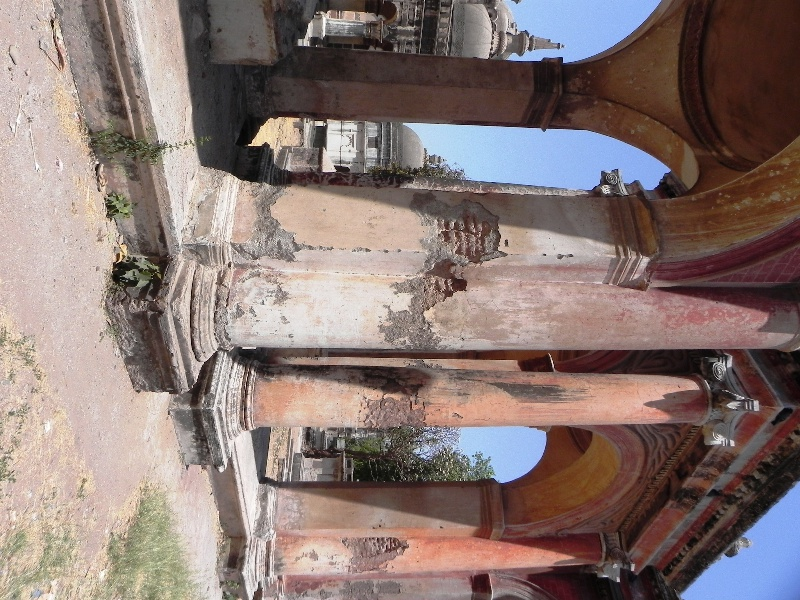Exposed Bricks: (435, 214, 488, 262)
Spalling: (388, 264, 470, 346), (241, 180, 306, 268), (362, 361, 431, 426), (342, 533, 410, 572), (213, 284, 231, 349)
